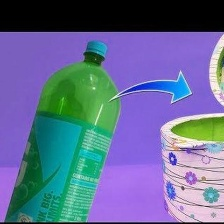bottle: (1, 36, 123, 223)
